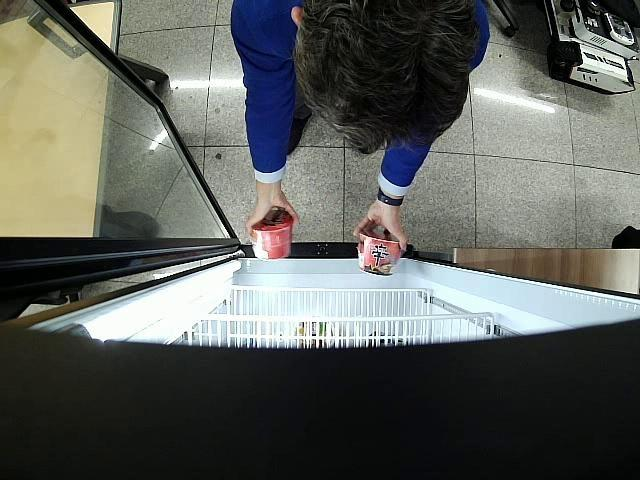01_ShinRamen_L: (252, 209, 296, 261), (360, 231, 400, 275)
